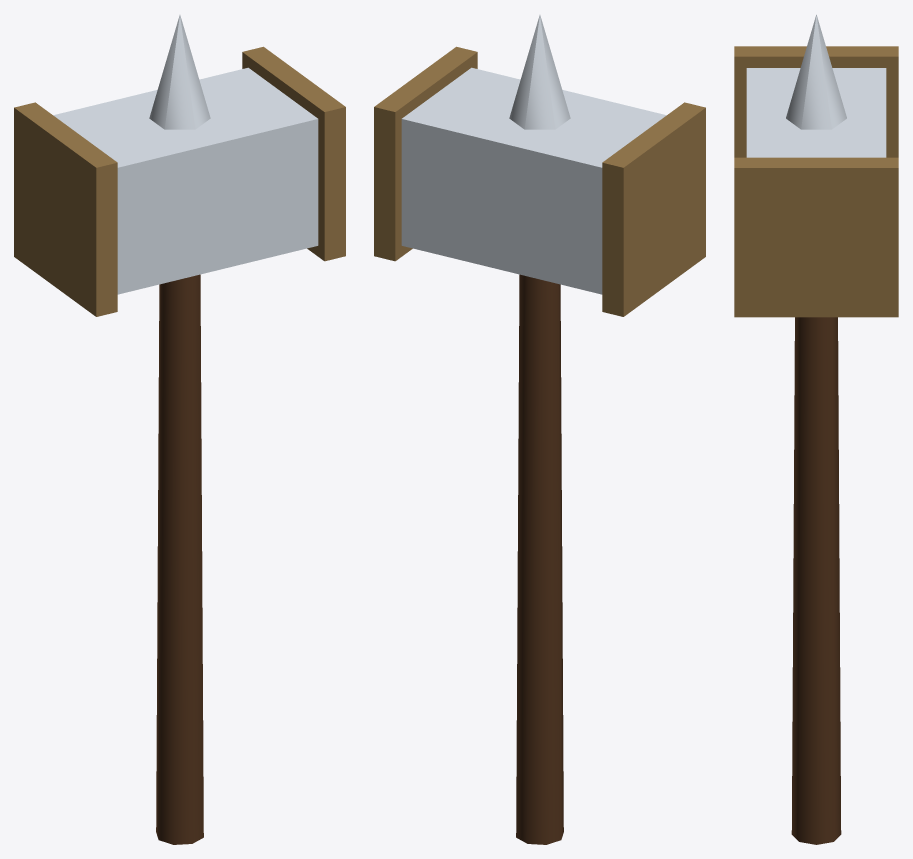
Rendered from axe_f2_4f68e68f.glb.
The picture shows the model from 3 angles, left to right: view 1: azimuth 30°, elevation 25°; view 2: azimuth 150°, elevation 25°; view 3: azimuth 270°, elevation 25°; orthographic projection.
Visible parts, largest first — view 1: m1_ow80_, m0_ow80_, m2_ow80_; view 2: m1_ow80_, m0_ow80_, m2_ow80_; view 3: m2_ow80_, m0_ow80_, m1_ow80_.
Part boxes in pixels (<box>): m1_ow80_: <box>53,15,318,294</box>; m0_ow80_: <box>156,274,203,844</box>; m2_ow80_: <box>14,46,345,316</box>; m1_ow80_: <box>401,15,666,294</box>; m0_ow80_: <box>516,274,563,844</box>; m2_ow80_: <box>374,46,705,316</box>; m2_ow80_: <box>734,46,898,317</box>; m0_ow80_: <box>791,317,841,844</box>; m1_ow80_: <box>746,14,886,157</box>.
Size of the model in its own units: 0.7 by 2.2 by 0.4.
